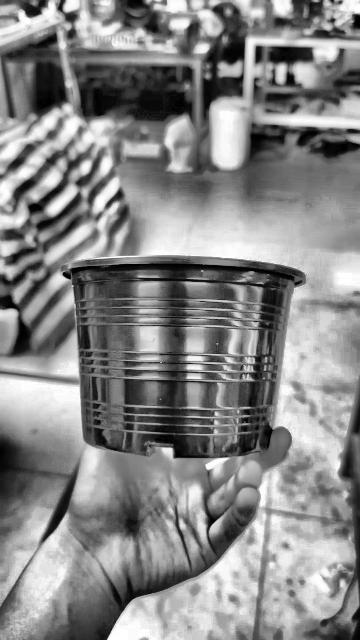pot: (63, 256, 304, 457)
